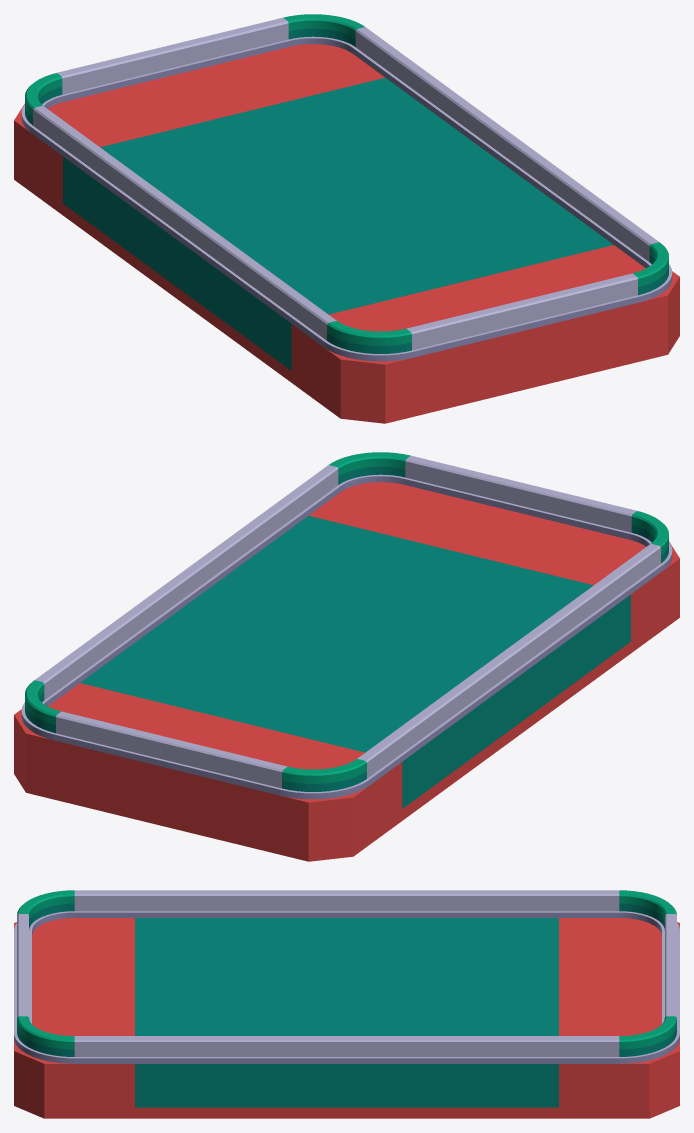
File: basicArena.fbx
3 renders of one model, top to bottom at view 1: azimuth 30°, elevation 25°; view 2: azimuth 150°, elevation 25°; view 3: azimuth 270°, elevation 25°, orthographic. The views are drawn at different scales.
Visible parts, largest first — view 1: block (×62), hedge_low (×26), block_corner_small (×4), hedge_round (×4); view 2: block (×62), hedge_low (×26), block_corner_small (×4), hedge_round (×4); view 3: block (×62), hedge_low (×26), block_corner_small (×4), hedge_round (×4).
Part boxes in pixels (x1,y1,x2,y2): block (×62): (30, 46, 645, 416); hedge_low (×26): (30, 17, 658, 357); block_corner_small (×4): (14, 44, 679, 423); hedge_round (×4): (21, 14, 672, 361); block (×62): (48, 484, 663, 854); hedge_low (×26): (35, 455, 663, 795); block_corner_small (×4): (14, 482, 679, 861); hedge_round (×4): (21, 452, 672, 799); block (×62): (32, 918, 661, 1118); hedge_low (×26): (14, 890, 679, 1063); block_corner_small (×4): (14, 918, 679, 1118); hedge_round (×4): (14, 890, 679, 1063).
Size of the model in its own units: 60 by 14 by 110.
